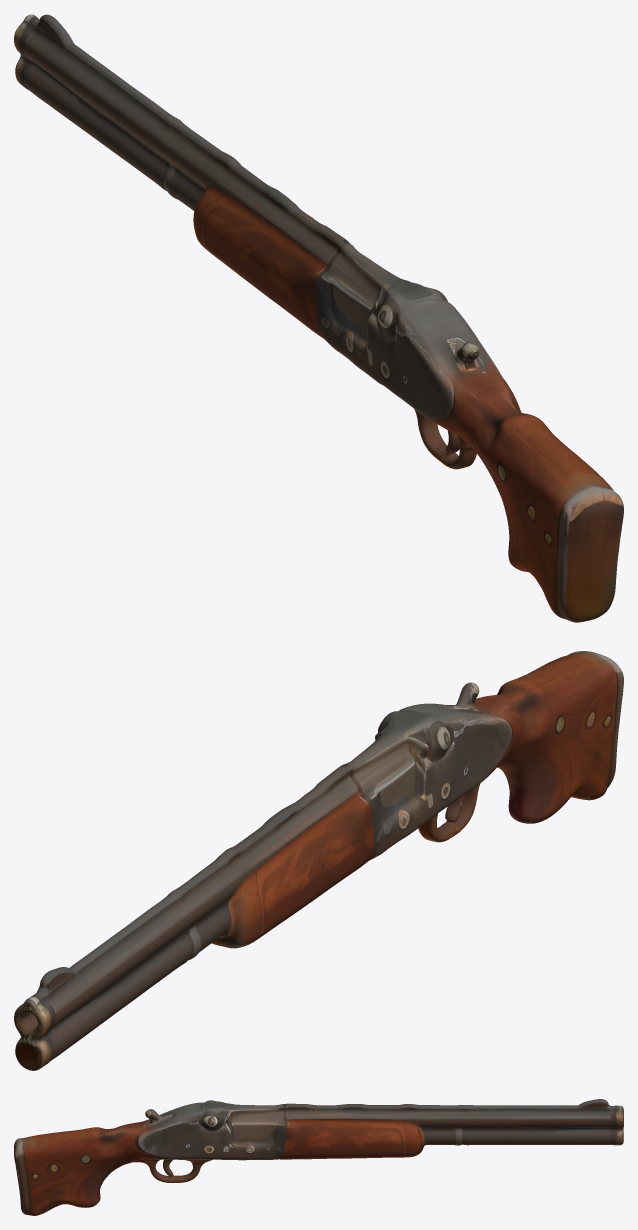
File: blunderbuss.glb
3 views of the same model, one above another, from view 1: azimuth 30°, elevation 25°; view 2: azimuth 150°, elevation 25°; view 3: azimuth 270°, elevation 25° (orthographic). The views are drawn at different scales.
Visible parts, largest first — view 1: tripo_node_6b2c9512-d8d9-4512-bbe3-8fe71a819808; view 2: tripo_node_6b2c9512-d8d9-4512-bbe3-8fe71a819808; view 3: tripo_node_6b2c9512-d8d9-4512-bbe3-8fe71a819808.
Part boxes in pixels (x1,y1,x2,y2): tripo_node_6b2c9512-d8d9-4512-bbe3-8fe71a819808: (14,14,623,622); tripo_node_6b2c9512-d8d9-4512-bbe3-8fe71a819808: (14,651,623,1070); tripo_node_6b2c9512-d8d9-4512-bbe3-8fe71a819808: (14,1099,623,1215).
Size of the model in its own units: 0.0639 by 0.1948 by 0.949.
Materials: 1 (1 with a texture image).
